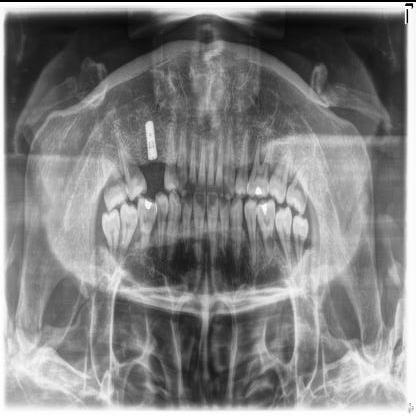ITI: (145, 114, 158, 160)
